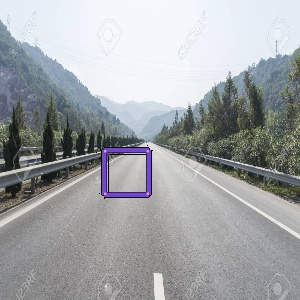square: (98, 145, 153, 199)
